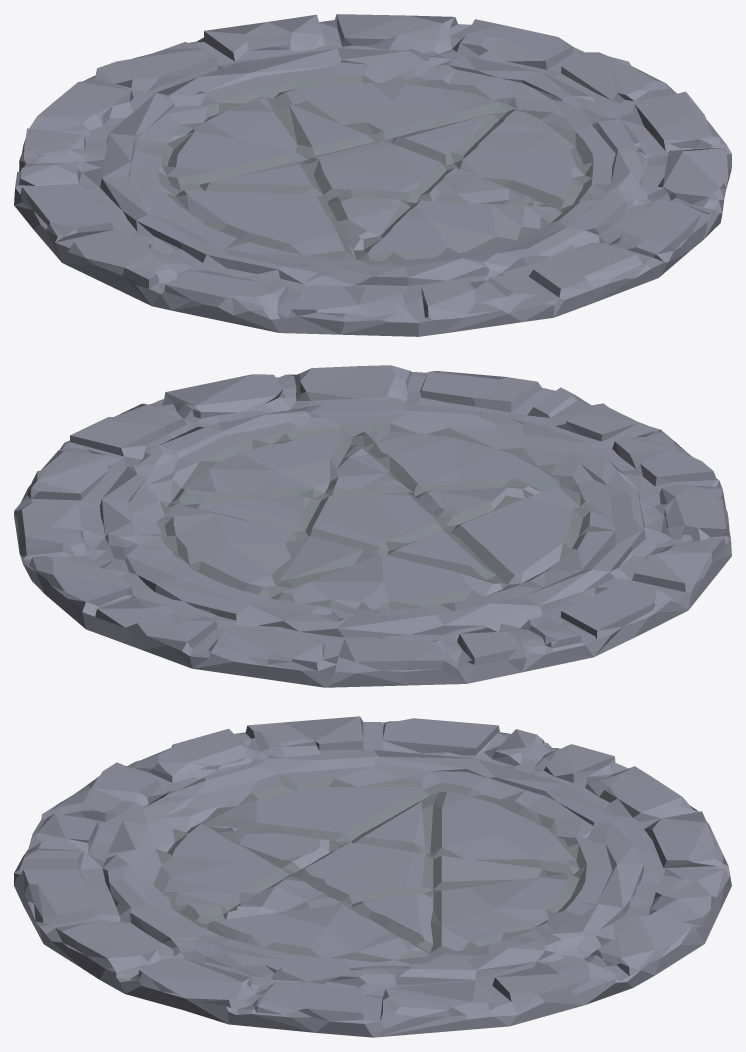
File: Pentagram_00.FBX
The picture shows the model from 3 angles, top to bottom: view 1: azimuth 30°, elevation 25°; view 2: azimuth 150°, elevation 25°; view 3: azimuth 270°, elevation 25°; orthographic projection.
Parts seen in each view (by area): view 1: Pentagram_00; view 2: Pentagram_00; view 3: Pentagram_00.
Part boxes in pixels (x1,y1,x2,y2): Pentagram_00: [14, 14, 731, 336]; Pentagram_00: [14, 365, 731, 687]; Pentagram_00: [14, 716, 731, 1037].
Bounding box in the file's own units: 6.5 × 0.2259 × 6.51.
